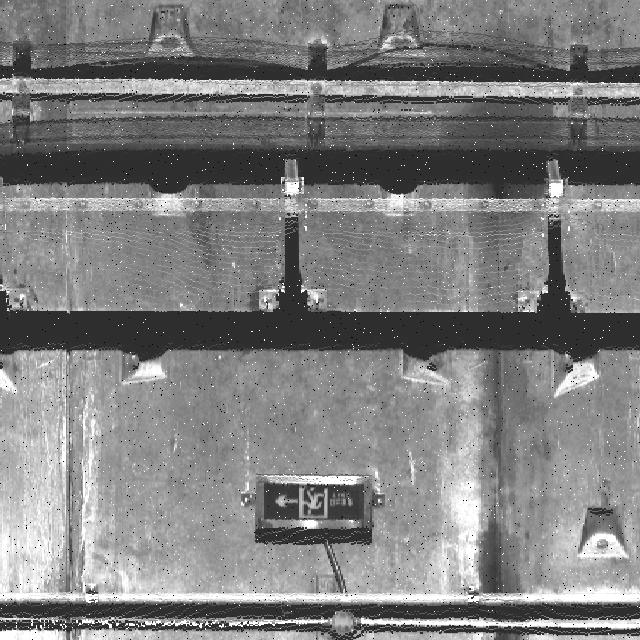leakage: (445, 64, 563, 317), (461, 356, 550, 638), (44, 405, 94, 638)
